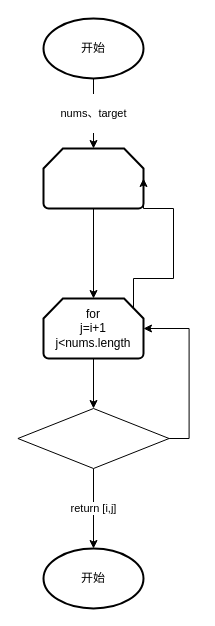
Image size: 215x626. Some labels were removed from this diagram. Here are the shapes that lost their labels. From the top down, the centre of each, then its label:
pixel 93 178: for i=0 i<nums.length
pixel 93 438: nums[i] + num[j] === 9
